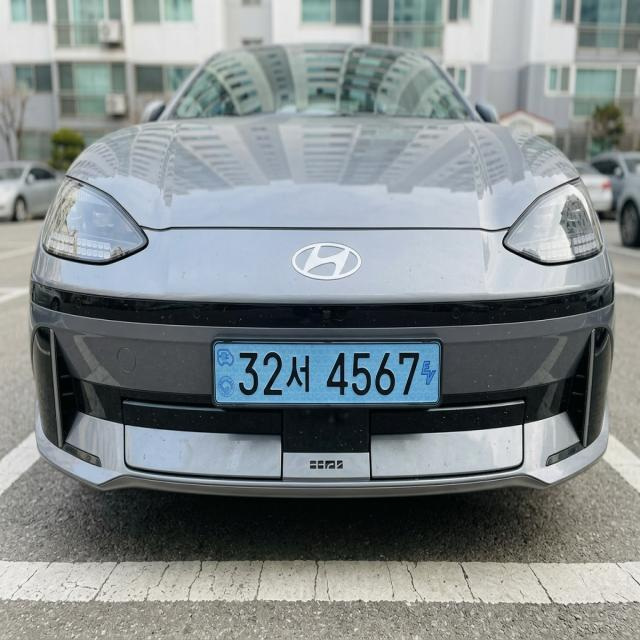car: (203, 317, 460, 439)
carev: (210, 336, 239, 407), (419, 338, 441, 404)
